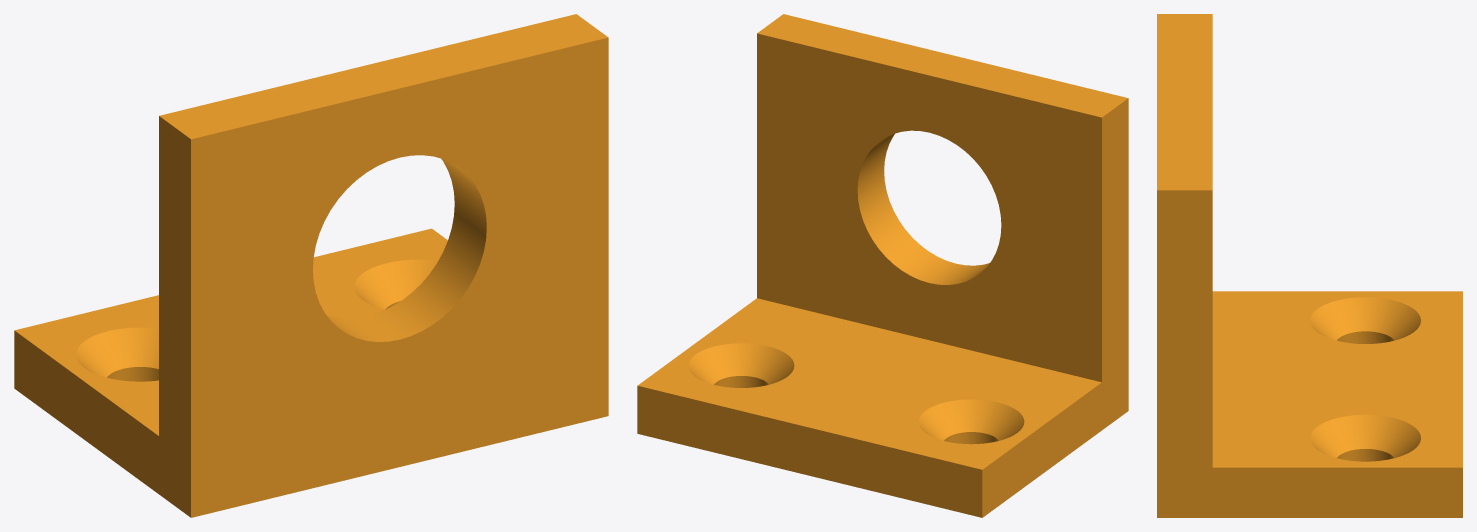
Rendered from soporte_sensor_m12.fbx.
The picture shows the model from 3 angles, left to right: view 1: azimuth 30°, elevation 25°; view 2: azimuth 150°, elevation 25°; view 3: azimuth 270°, elevation 25°; orthographic projection. The views are drawn at different scales.
Parts seen in each view (by area): view 1: soporte_sensor_m12; view 2: soporte_sensor_m12; view 3: soporte_sensor_m12.
Part boxes in pixels (bbox=[...]): soporte_sensor_m12: bbox=[14, 14, 608, 517]; soporte_sensor_m12: bbox=[637, 14, 1128, 517]; soporte_sensor_m12: bbox=[1157, 14, 1462, 517].
Size of the model in its own units: 0.03 by 0.026 by 0.022.
